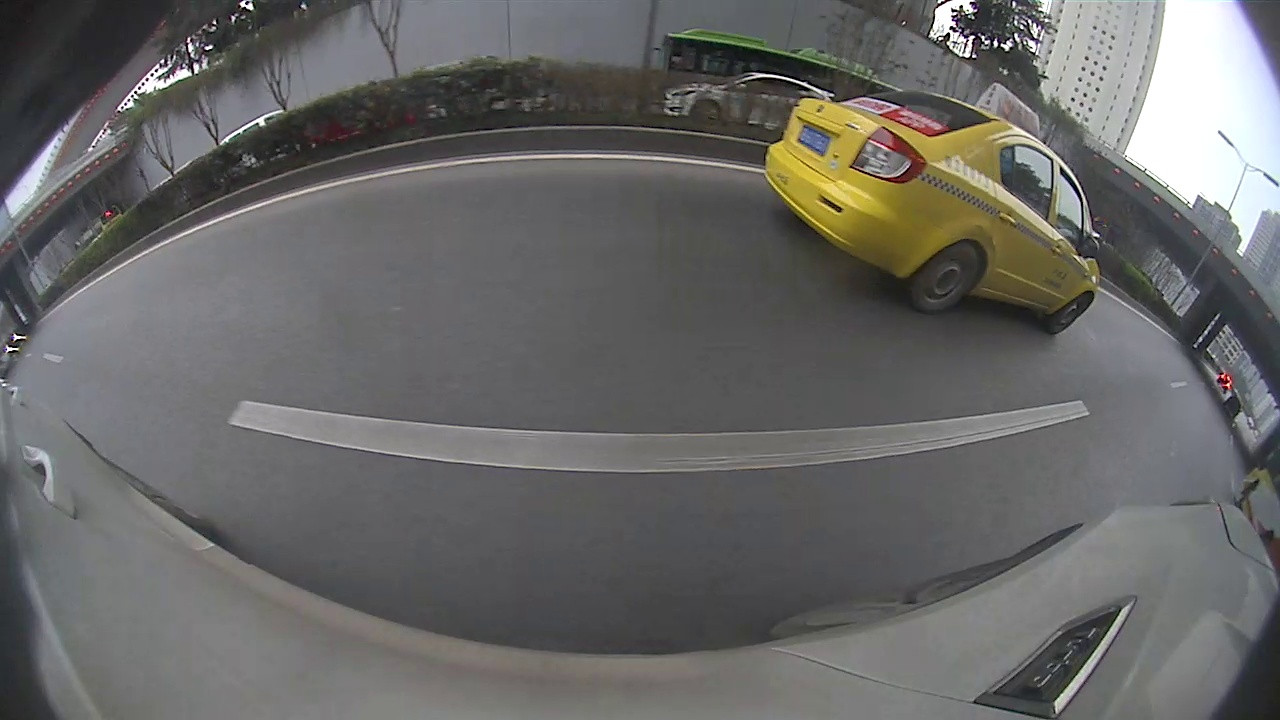car: (763, 81, 1096, 335)
front: (1045, 292, 1090, 336)
rear: (906, 243, 983, 315)
